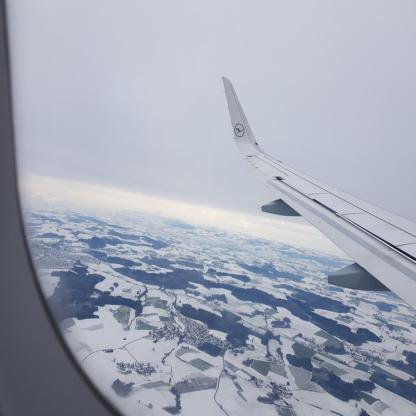CIV_Plane: (218, 68, 416, 314)
